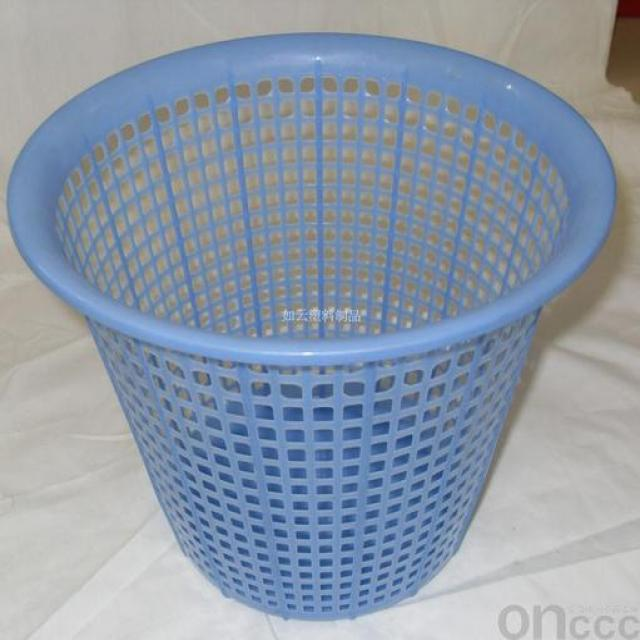Dustbin: (0, 25, 624, 630)
